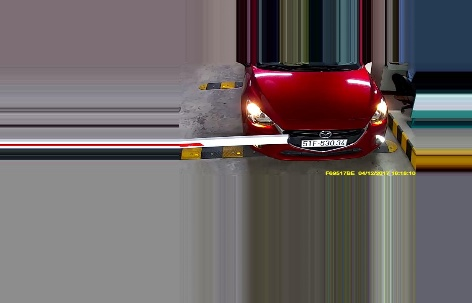plate: (301, 138, 347, 147)
